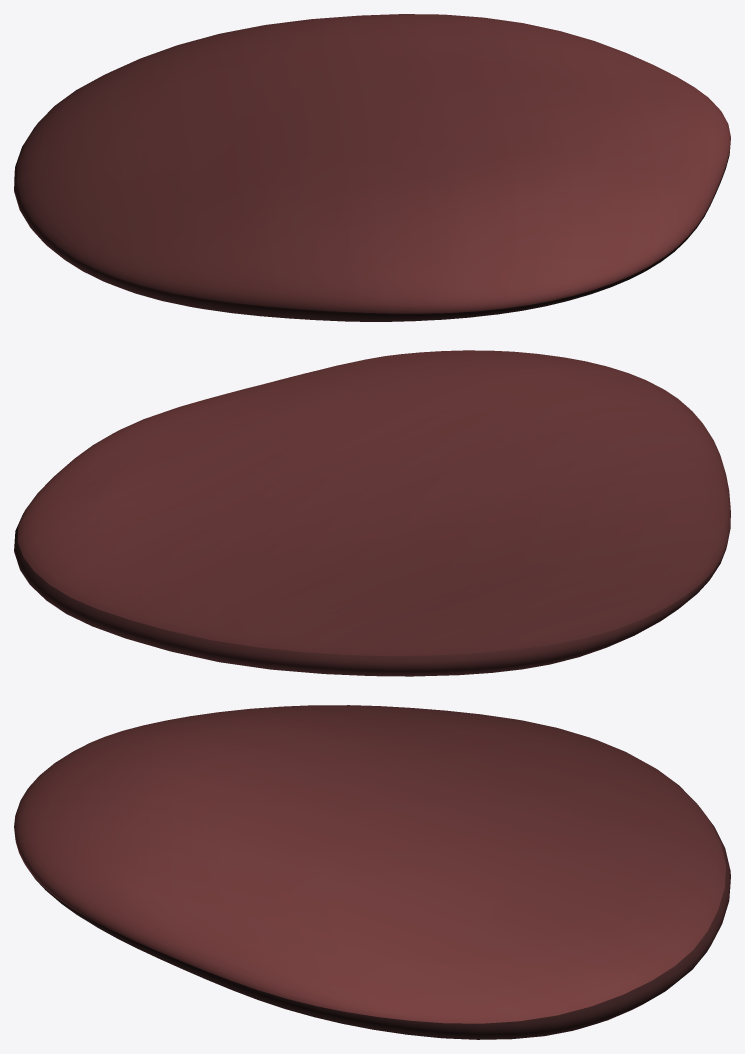
The model's file is common.glb.
3 renders of one model, top to bottom at view 1: azimuth 30°, elevation 25°; view 2: azimuth 150°, elevation 25°; view 3: azimuth 270°, elevation 25°, orthographic. The views are drawn at different scales.
Visible parts, largest first — view 1: oc_tong; view 2: oc_tong; view 3: oc_tong.
Boxes of the visible parts, left/top/right/bottom form: oc_tong: left=14, top=14, right=730, bottom=321; oc_tong: left=14, top=350, right=730, bottom=676; oc_tong: left=14, top=705, right=730, bottom=1039.
Bounding box in the file's own units: 0.1589 × 0.036 × 0.1596.
1 material, 1 textured.
